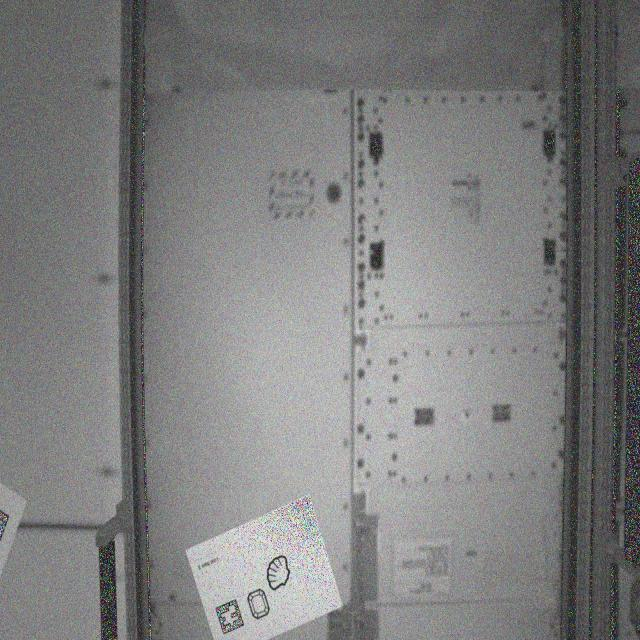emerald: (246, 588, 275, 622)
shell: (266, 551, 294, 598)
